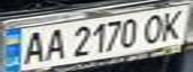0: (118, 16, 142, 48)
1: (90, 20, 109, 54)
2: (69, 22, 93, 58)
7: (106, 17, 127, 51)
A: (18, 28, 51, 65), (39, 26, 69, 62)
K: (154, 7, 190, 40)
O: (139, 11, 169, 44)
